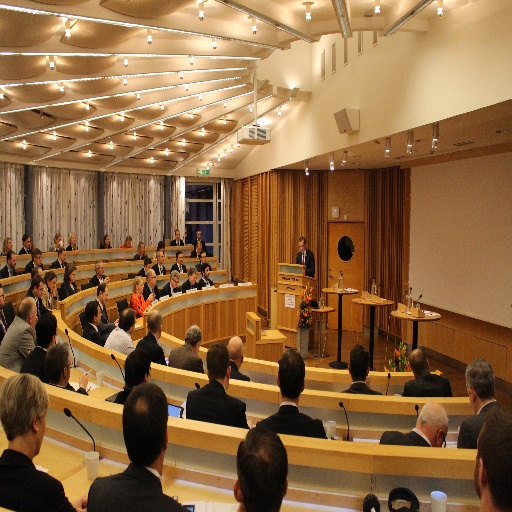hand: (78, 369, 88, 387), (81, 490, 89, 508), (245, 418, 253, 428), (366, 373, 371, 389), (147, 291, 153, 300), (103, 275, 109, 282), (51, 284, 56, 292), (165, 351, 169, 361), (114, 321, 120, 326), (73, 243, 77, 249), (61, 241, 64, 248), (106, 275, 110, 280), (116, 316, 120, 320)
